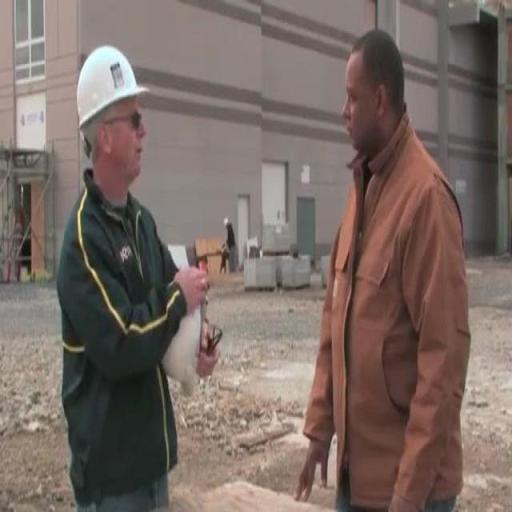helmet: (71, 36, 151, 134), (216, 214, 233, 234)
